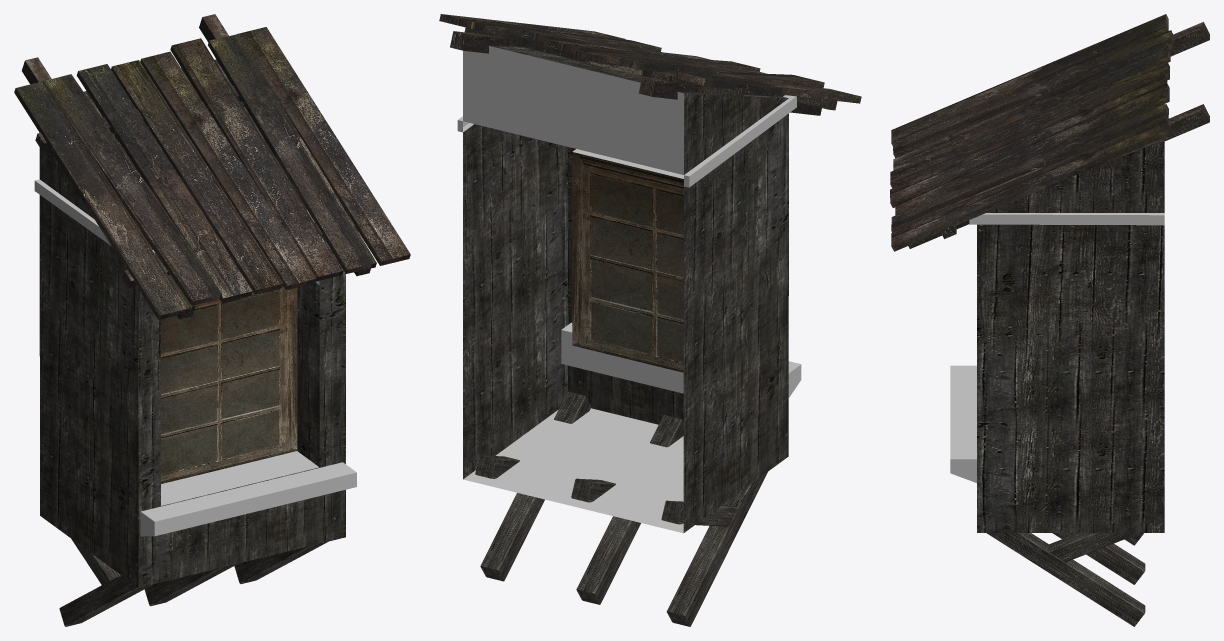
File: WindowBox_1.fbx
The picture shows the model from 3 angles, left to right: view 1: azimuth 30°, elevation 25°; view 2: azimuth 150°, elevation 25°; view 3: azimuth 270°, elevation 25°; orthographic projection. The views are drawn at different scales.
Visible parts, largest first — view 1: WindowBox_1; view 2: WindowBox_1; view 3: WindowBox_1.
Boxes of the visible parts, bbox=[...] form: WindowBox_1: bbox=[14, 14, 410, 626]; WindowBox_1: bbox=[439, 14, 861, 626]; WindowBox_1: bbox=[890, 14, 1209, 626].
Bounding box in the file's own units: 96.95 × 197 × 111.
